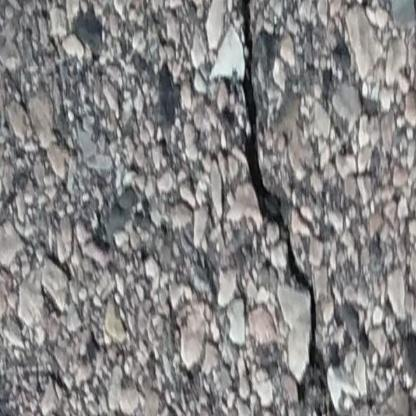Cracks: (197, 0, 407, 416)
